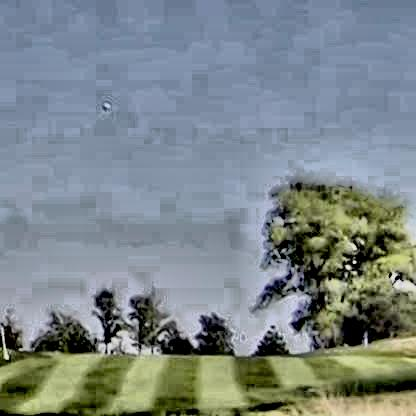golfball: (98, 99, 107, 107)
